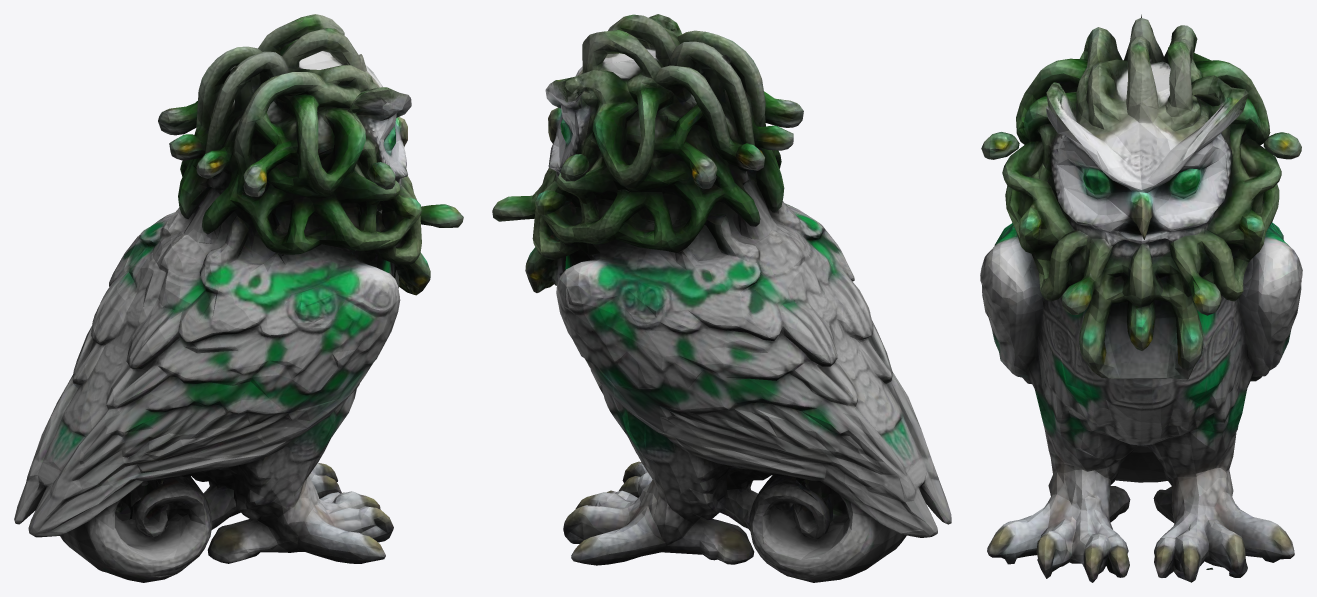
The model's file is nightveil__medusaOwl.glb.
3 views of the same model, side by side, from view 1: azimuth 30°, elevation 25°; view 2: azimuth 150°, elevation 25°; view 3: azimuth 270°, elevation 25° (orthographic). The views are drawn at different scales.
Parts seen in each view (by area): view 1: world; view 2: world; view 3: world.
Part boxes in pixels (box(x1,y1,x2,y2)): world: box(14, 14, 463, 582); world: box(492, 14, 951, 582); world: box(980, 14, 1302, 582).
Size of the model in its own units: 0.8761 by 0.999 by 0.5517.
1 material, 1 textured.
